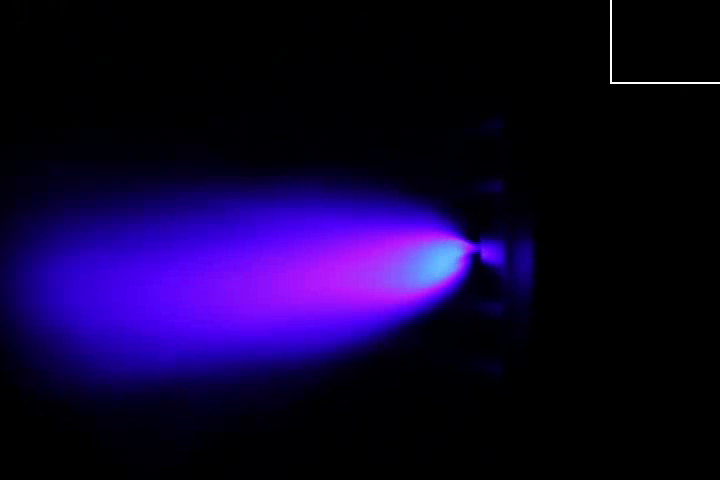burner cap: (476, 236, 509, 276)
stable: (292, 210, 479, 320)
